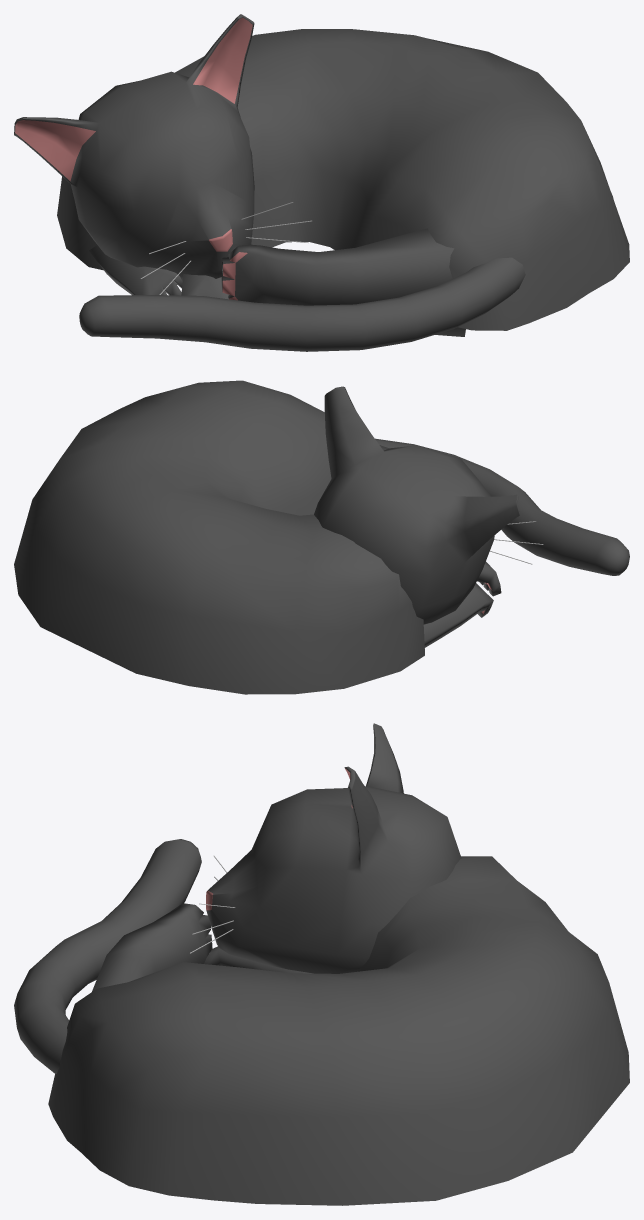
File: Cat_Hat.fbx
3 renders of one model, top to bottom at view 1: azimuth 30°, elevation 25°; view 2: azimuth 150°, elevation 25°; view 3: azimuth 270°, elevation 25°, orthographic. The views are drawn at different scales.
Visible parts, largest first — view 1: Cat_Hat; view 2: Cat_Hat; view 3: Cat_Hat.
Part boxes in pixels (x1=…): Cat_Hat: x1=14, y1=14, x2=629, y2=351; Cat_Hat: x1=14, y1=380, x2=629, y2=694; Cat_Hat: x1=14, y1=723, x2=629, y2=1205.
Size of the model in its own units: 34.4 by 16.2 by 29.63.
